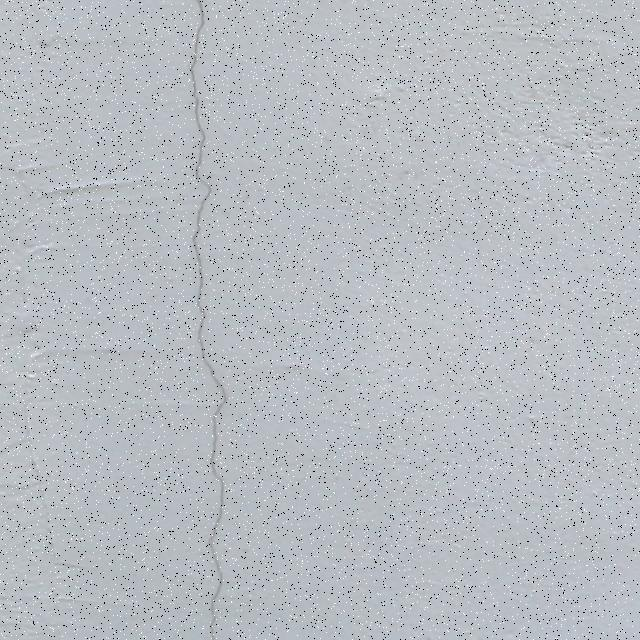minor crack: (186, 22, 230, 627), (9, 160, 61, 176)
moderate crack: (96, 0, 209, 191), (31, 2, 99, 54), (28, 176, 141, 193)
severe crack: (214, 492, 226, 516)
